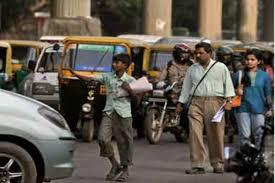helmet: (172, 43, 194, 65), (216, 45, 234, 66)
nohelmet: (111, 52, 132, 72), (195, 42, 213, 64), (244, 48, 262, 70)
